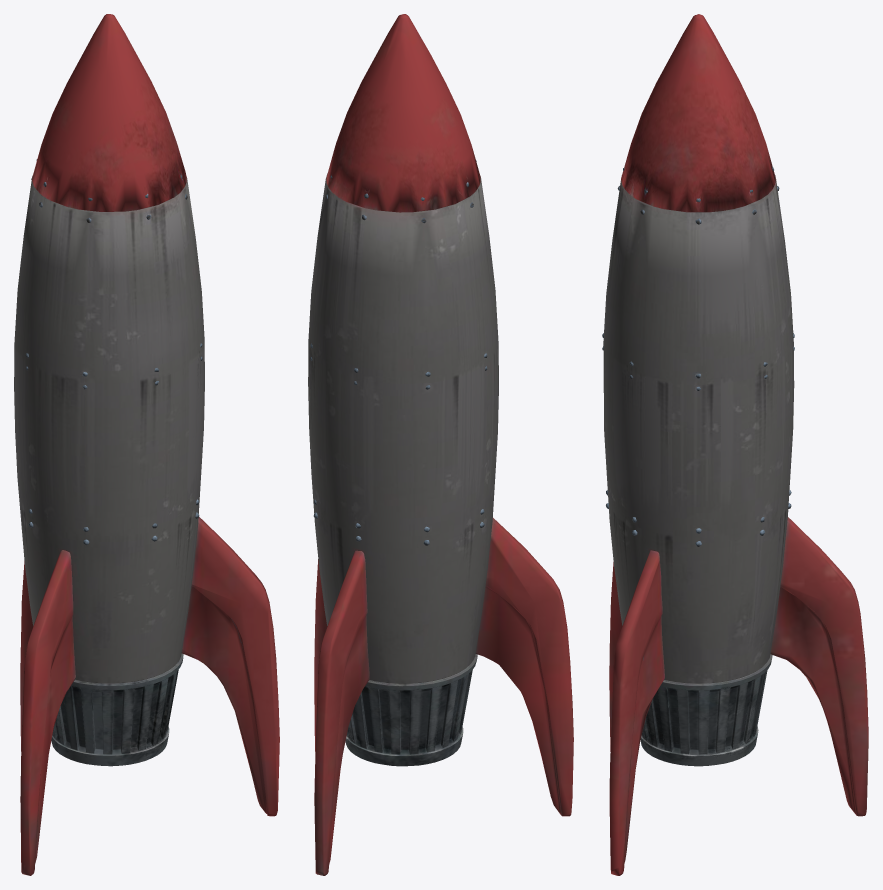
File: rocket.glb
3 renders of one model, left to right at view 1: azimuth 30°, elevation 25°; view 2: azimuth 150°, elevation 25°; view 3: azimuth 270°, elevation 25°, orthographic.
Visible parts, largest first — view 1: Cylinder_1; view 2: Cylinder_1; view 3: Cylinder_1.
Part boxes in pixels (box(x1,y1,x2,y2)): Cylinder_1: box(14, 14, 279, 875); Cylinder_1: box(308, 14, 573, 875); Cylinder_1: box(602, 14, 868, 875).
Size of the model in its own units: 0.8666 by 2.56 by 0.774.
Materials: 1 (1 with a texture image).
